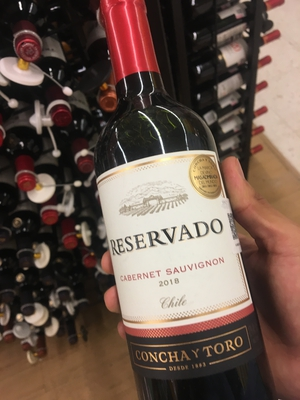reservado cabernet sauvignon: (84, 5, 269, 400)
